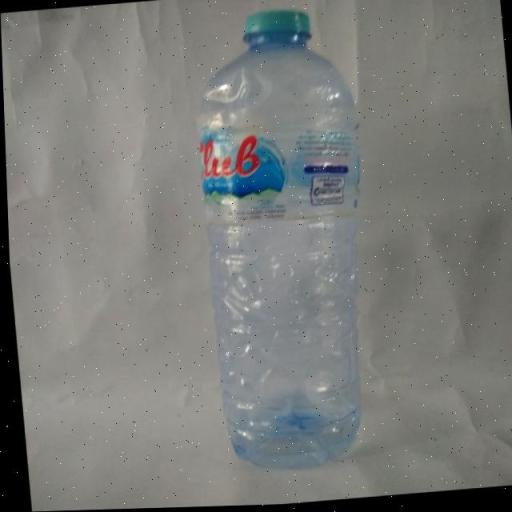plastic: (178, 4, 385, 480)
